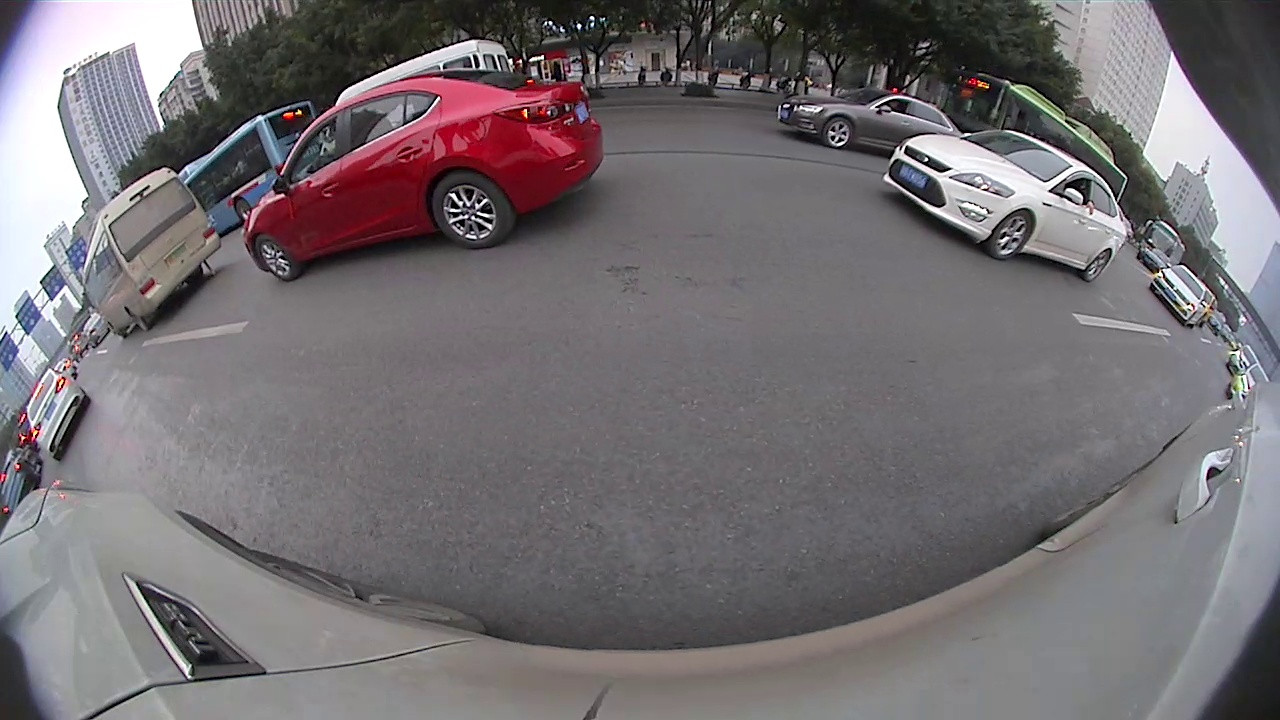bus: (948, 70, 1127, 201), (81, 168, 219, 336), (179, 99, 313, 235)
car: (245, 72, 603, 280), (885, 130, 1129, 281), (334, 39, 510, 108), (777, 88, 954, 148), (26, 367, 91, 459), (1151, 265, 1211, 328)
front: (988, 212, 1033, 261), (255, 236, 297, 278), (821, 119, 850, 147)
rear: (432, 170, 510, 249), (1082, 250, 1111, 280), (233, 201, 251, 221)
